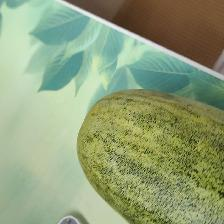gua: (84, 93, 224, 223)
